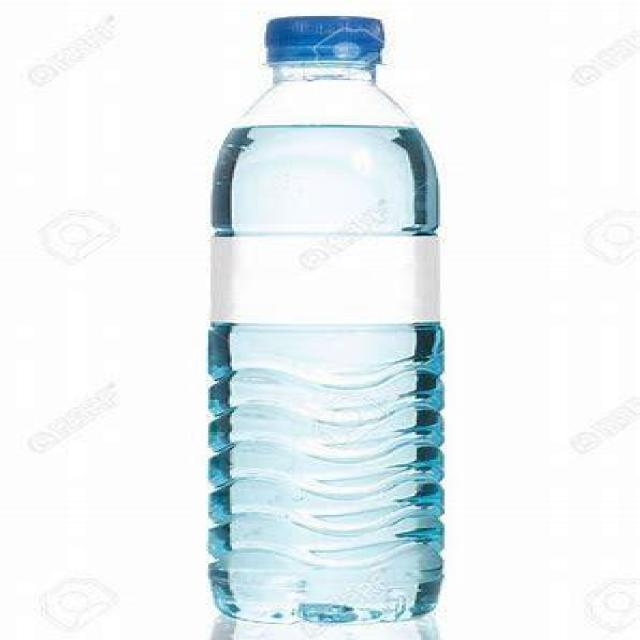bottle: (204, 14, 445, 625)
